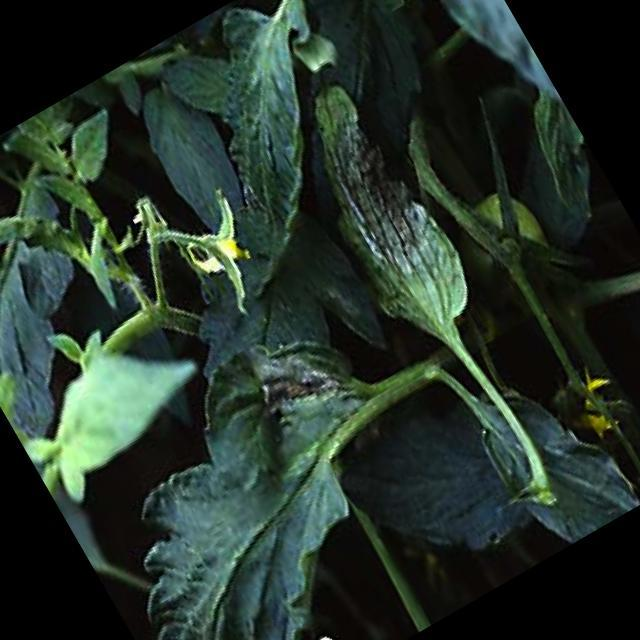Tomato late blight leaf: (48, 296, 472, 640), (261, 62, 512, 396)
